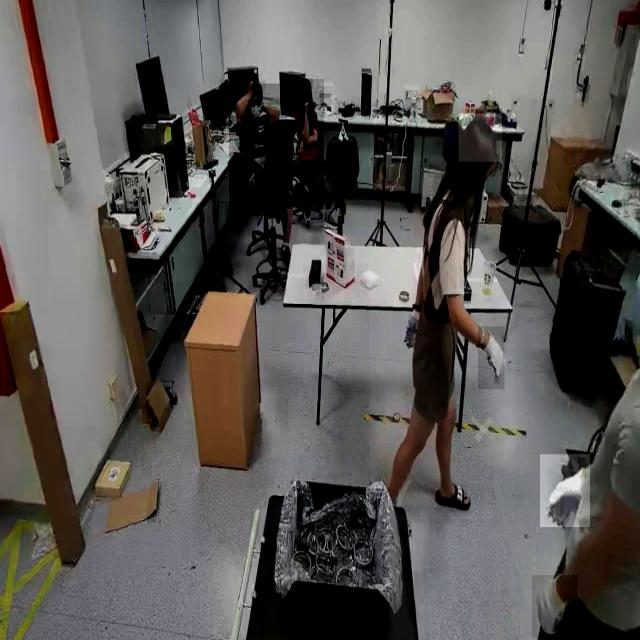face_mask: (251, 93, 263, 122)
face_nomask: (302, 93, 312, 107)
hand_glove: (540, 454, 590, 528), (532, 575, 578, 639), (478, 326, 504, 390)
hand_noglove: (245, 79, 257, 98), (304, 98, 310, 115), (299, 139, 305, 152)
head_nohelmet: (458, 114, 502, 162), (247, 81, 265, 93), (298, 78, 312, 90)
person: (369, 113, 515, 520), (229, 83, 287, 217), (286, 79, 324, 210)
